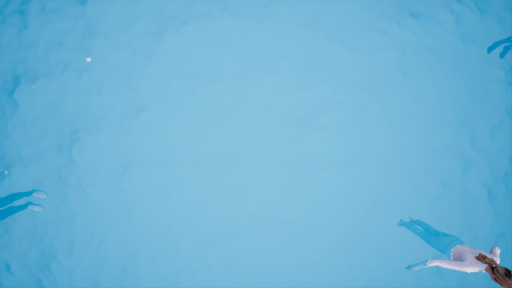person: (394, 210, 505, 288)
